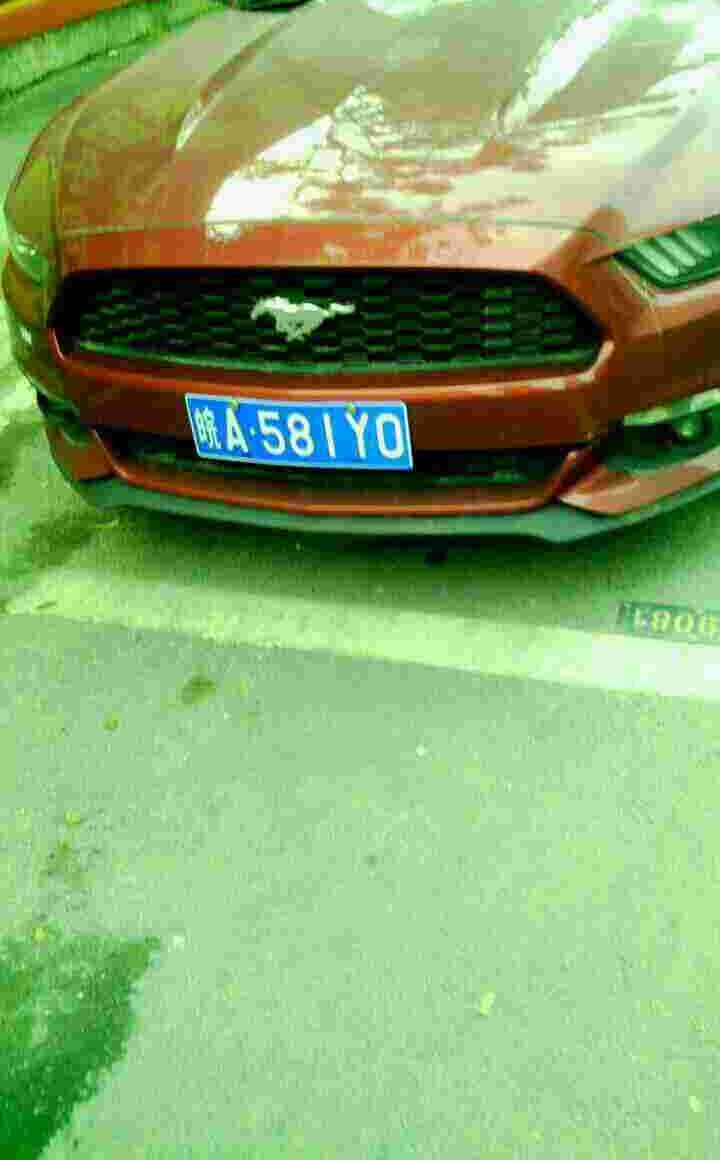license_plate: (195, 401, 404, 468)
